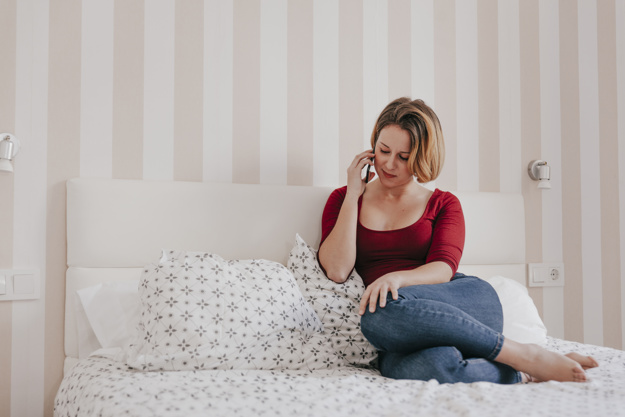phone: (350, 143, 379, 191)
talk: (343, 137, 415, 205)
